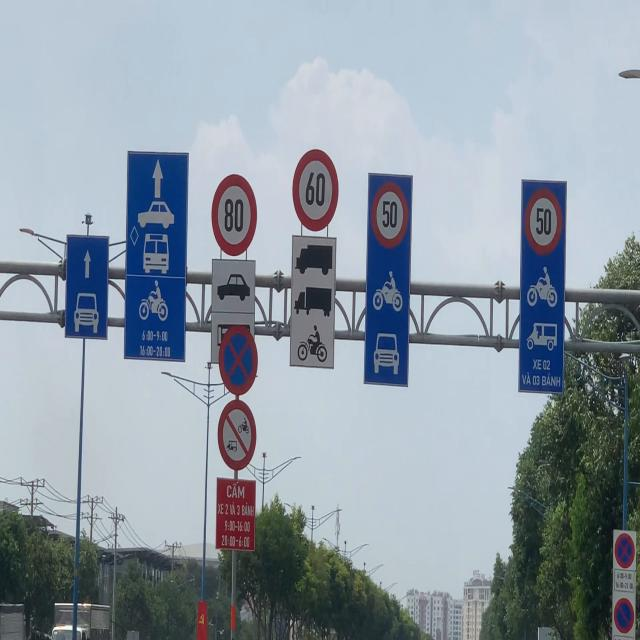Cam con lai: (217, 399, 256, 472)
Cam do: (614, 597, 634, 634)
Cam dung va do: (219, 325, 258, 396), (614, 533, 635, 568)
Toc do toi da: (292, 148, 339, 232), (211, 174, 258, 256), (524, 188, 562, 255), (371, 182, 409, 249)
